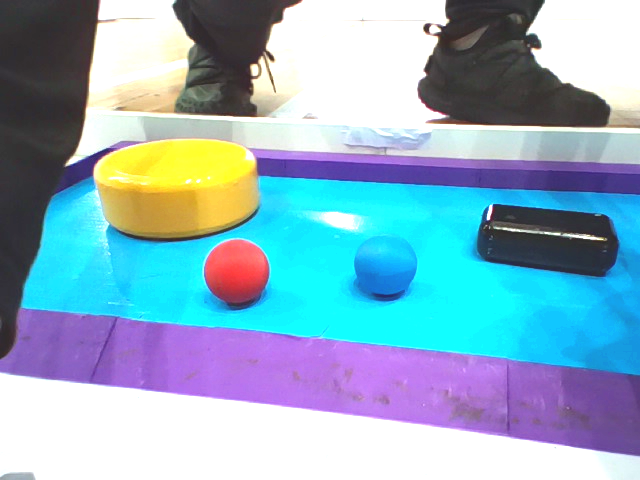black: (478, 203, 620, 276)
blue: (349, 238, 414, 292)
kuang: (1, 139, 638, 455)
red: (205, 240, 271, 302)
yellow: (91, 140, 259, 237)
